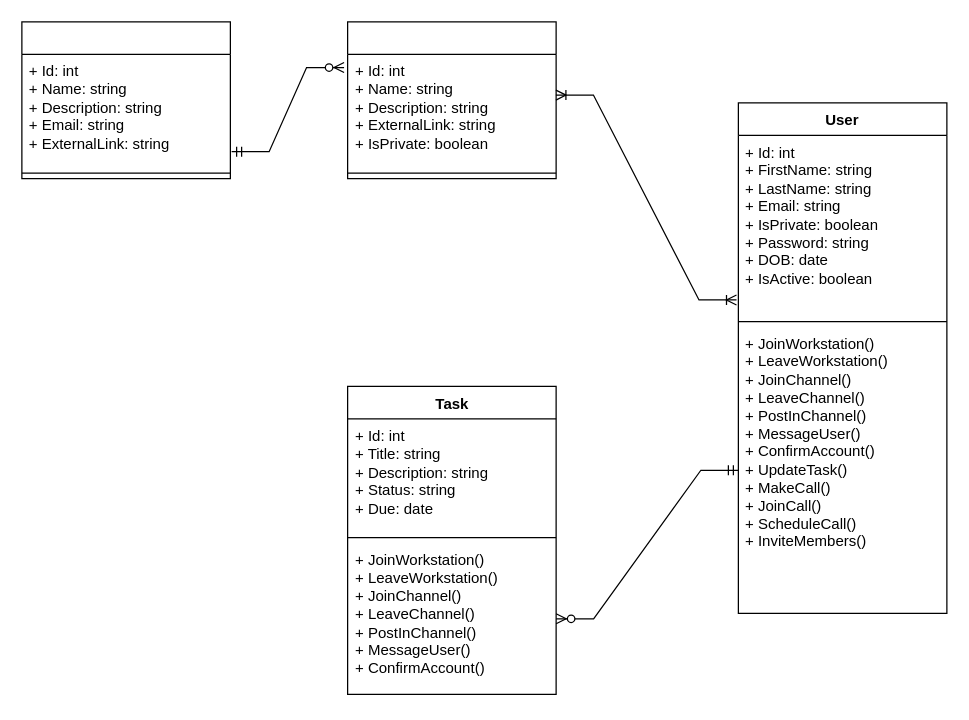
The diagram is 969 pixels wide and 720 high, and some of its shapes have lost their labels. The box of each missing label's shape, as (x1, y1, x2, y2) in pixels:
Channel: (346, 21, 556, 179)
Workstation: (21, 21, 230, 179)
